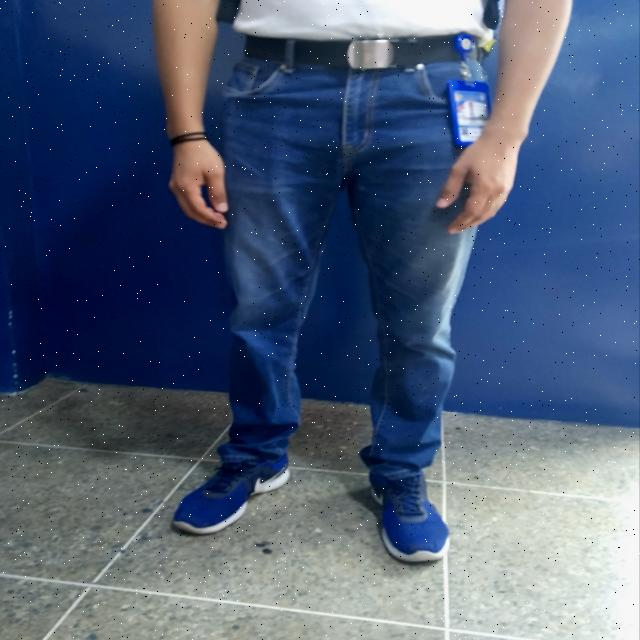carnet: (453, 90, 492, 141)
pantalon_oscuro: (212, 54, 494, 481)
